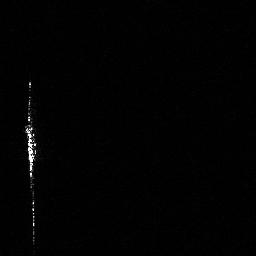ship: (21, 79, 42, 246)
